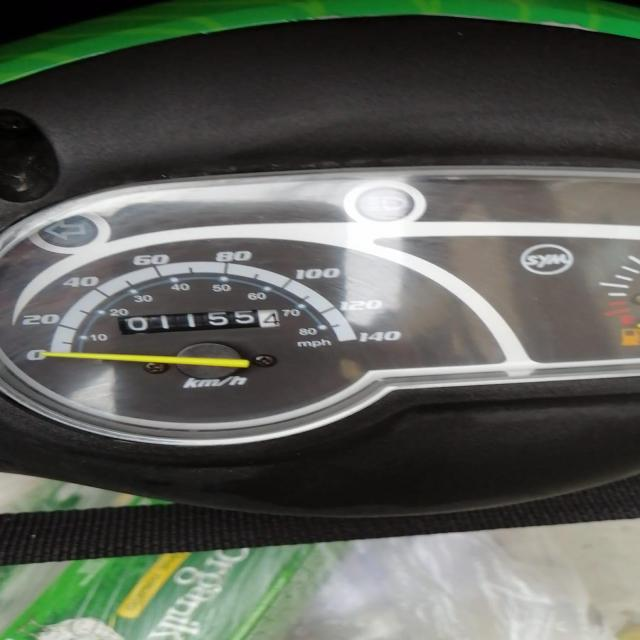odometer: (113, 307, 284, 337)
